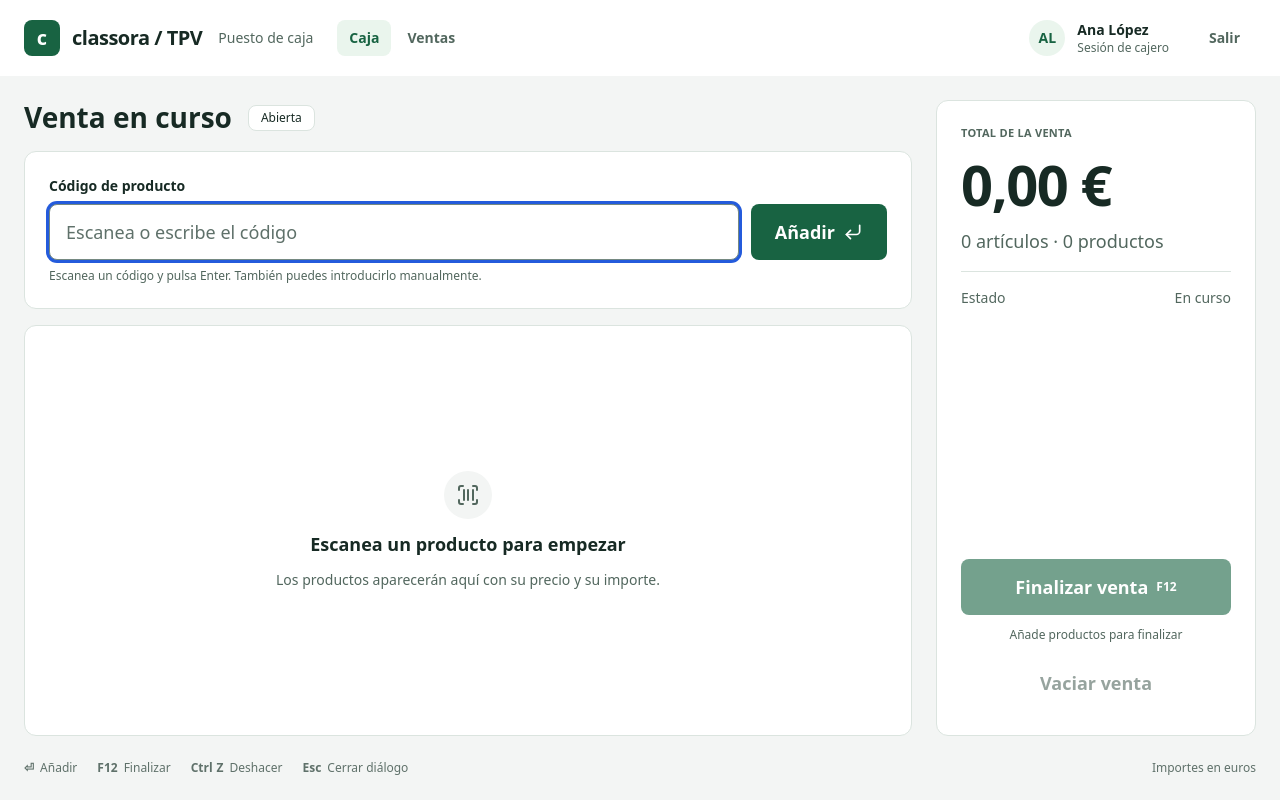
Auth: Login Screen Integration › CU-07: should log out from the checkout and go back to the login
This screenshot has width=1280, height=800.
Check: the text "Ana López" is shown, box [1077, 20, 1149, 39]
Step 1. Click the button "Salir" → (1224, 38), box [1193, 16, 1256, 60]
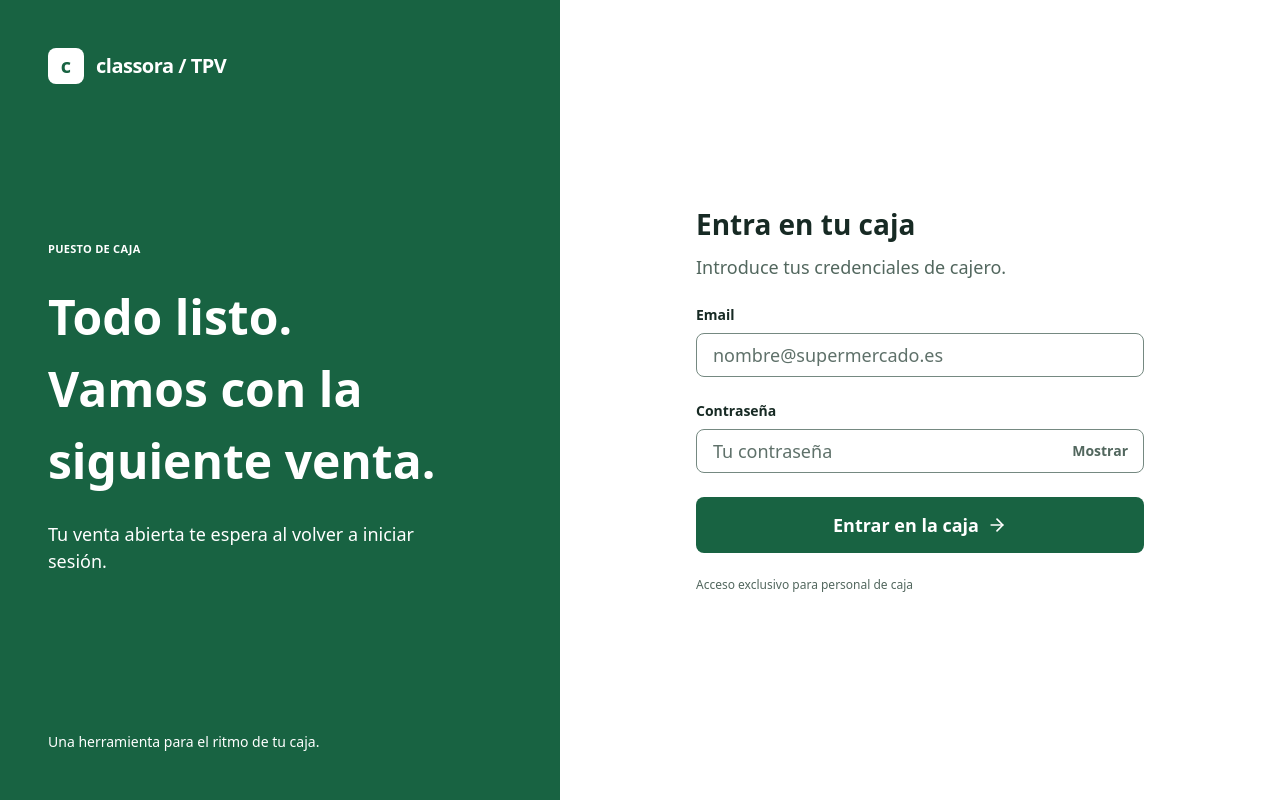
Check: the heading "Entra en tu caja" is shown, box [696, 205, 915, 243]
